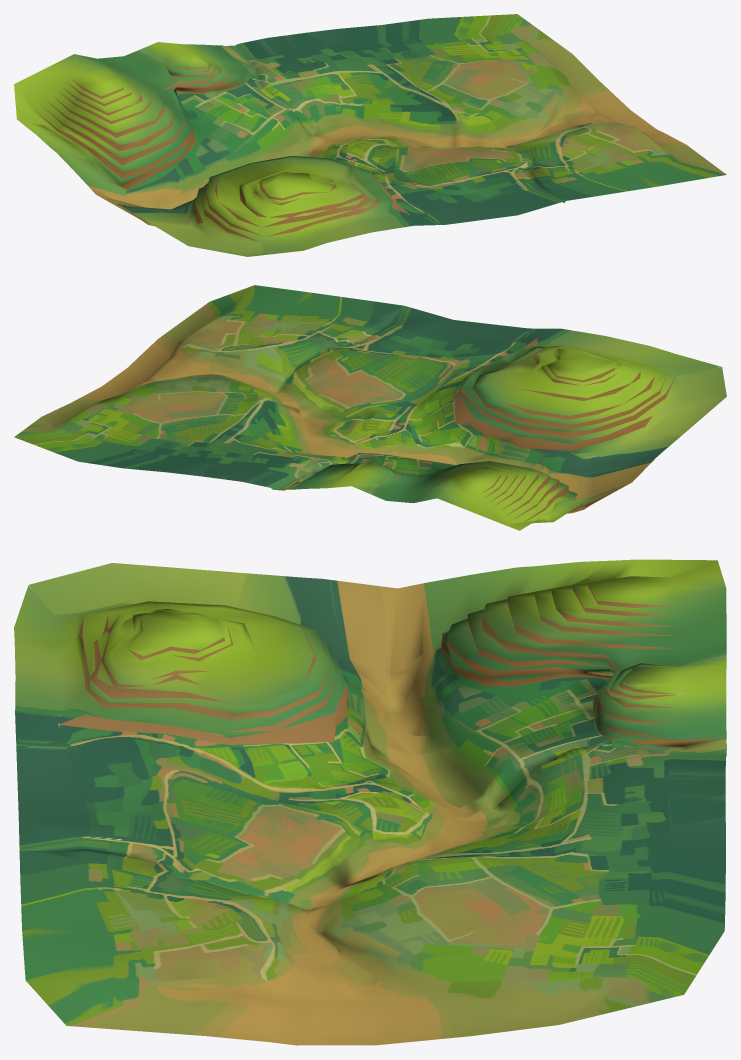
Rendered from SM_Valley_02.fbx.
3 views of the same model, one above another, from view 1: azimuth 30°, elevation 25°; view 2: azimuth 150°, elevation 25°; view 3: azimuth 270°, elevation 25° (orthographic). The views are drawn at different scales.
Visible parts, largest first — view 1: SM_Valley.001; view 2: SM_Valley.001; view 3: SM_Valley.001.
Part boxes in pixels (<box>): SM_Valley.001: <box>14,14,726,256</box>; SM_Valley.001: <box>14,285,726,530</box>; SM_Valley.001: <box>14,559,726,1045</box>.
Size of the model in its own units: 2758 by 446 by 2092.
